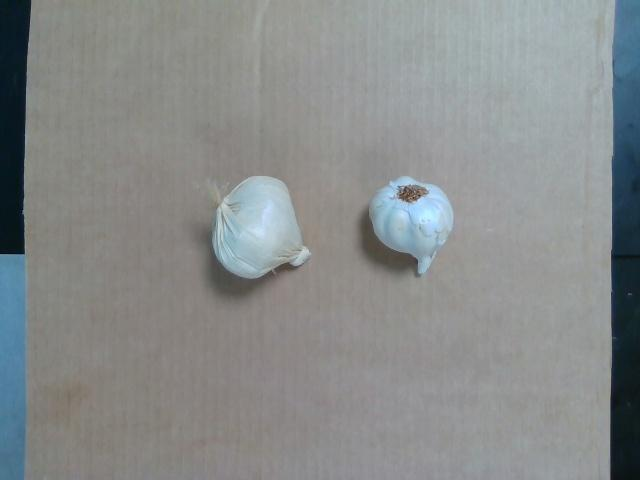garlic: (205, 174, 311, 281), (370, 175, 454, 276)
